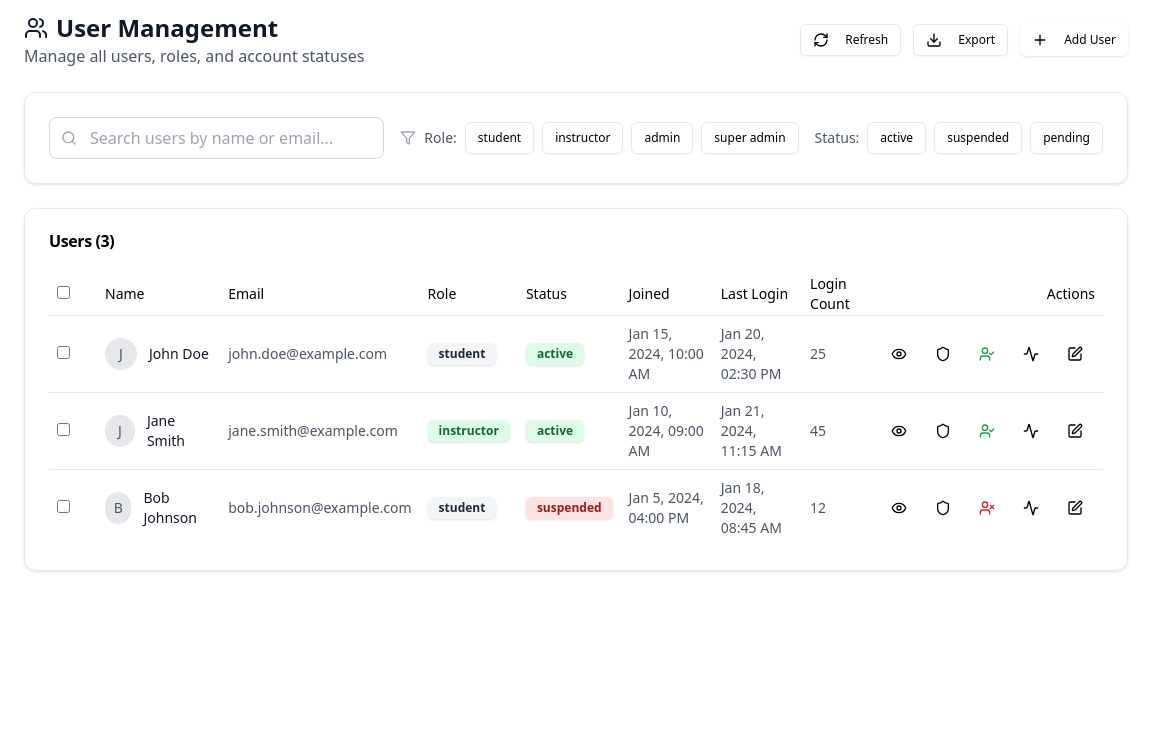
Scenario: UserManagementPage Component › User Selection › should select all users when select all is clicked
Check: the text "John Doe" is shown, box [149,344,209,364]
What coordinates should you click on to do the following:
click the checkbox next to "Name"
I would click on:
 (64, 292)
Its box is [57,286,70,299].
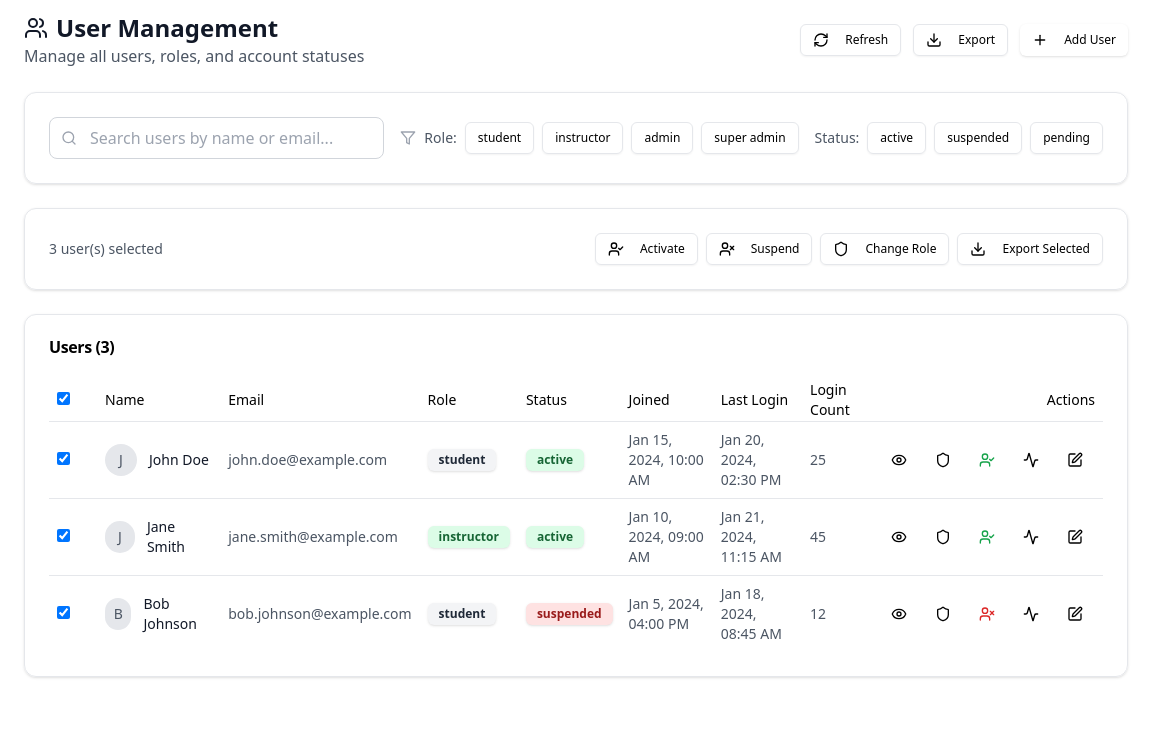
Check: the checkbox in the row of "John Doe" is checked, box [57,452,70,465]
Check: the checkbox in the row of "Jane Smith" is checked, box [57,529,70,542]
Check: the checkbox in the row of "Bob Johnson" is checked, box [57,606,70,619]
